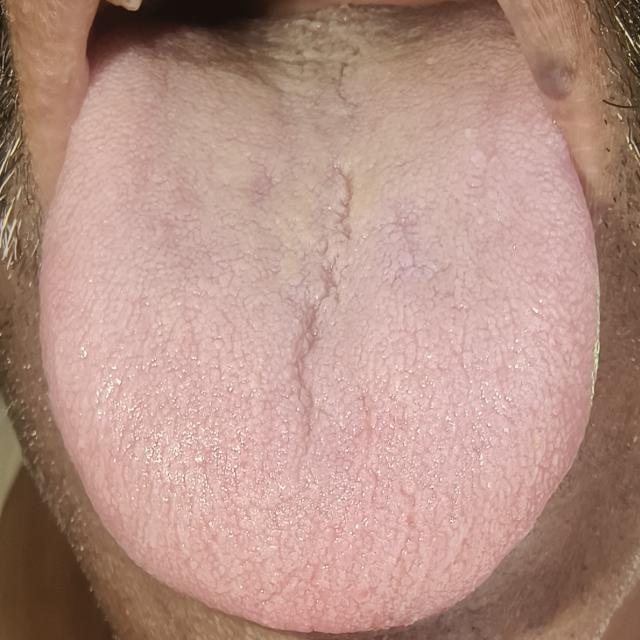processing_area: (39, 6, 604, 633)
